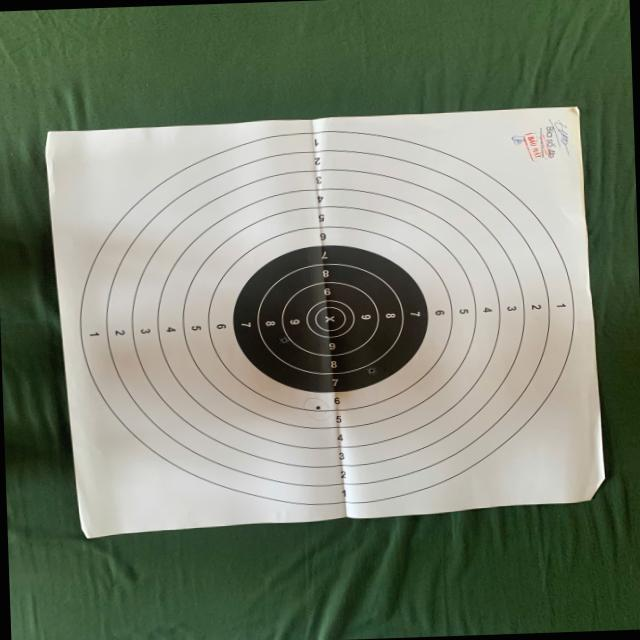bullet: (370, 366, 374, 374), (315, 405, 319, 409), (281, 337, 284, 341)
target: (47, 107, 601, 536)
